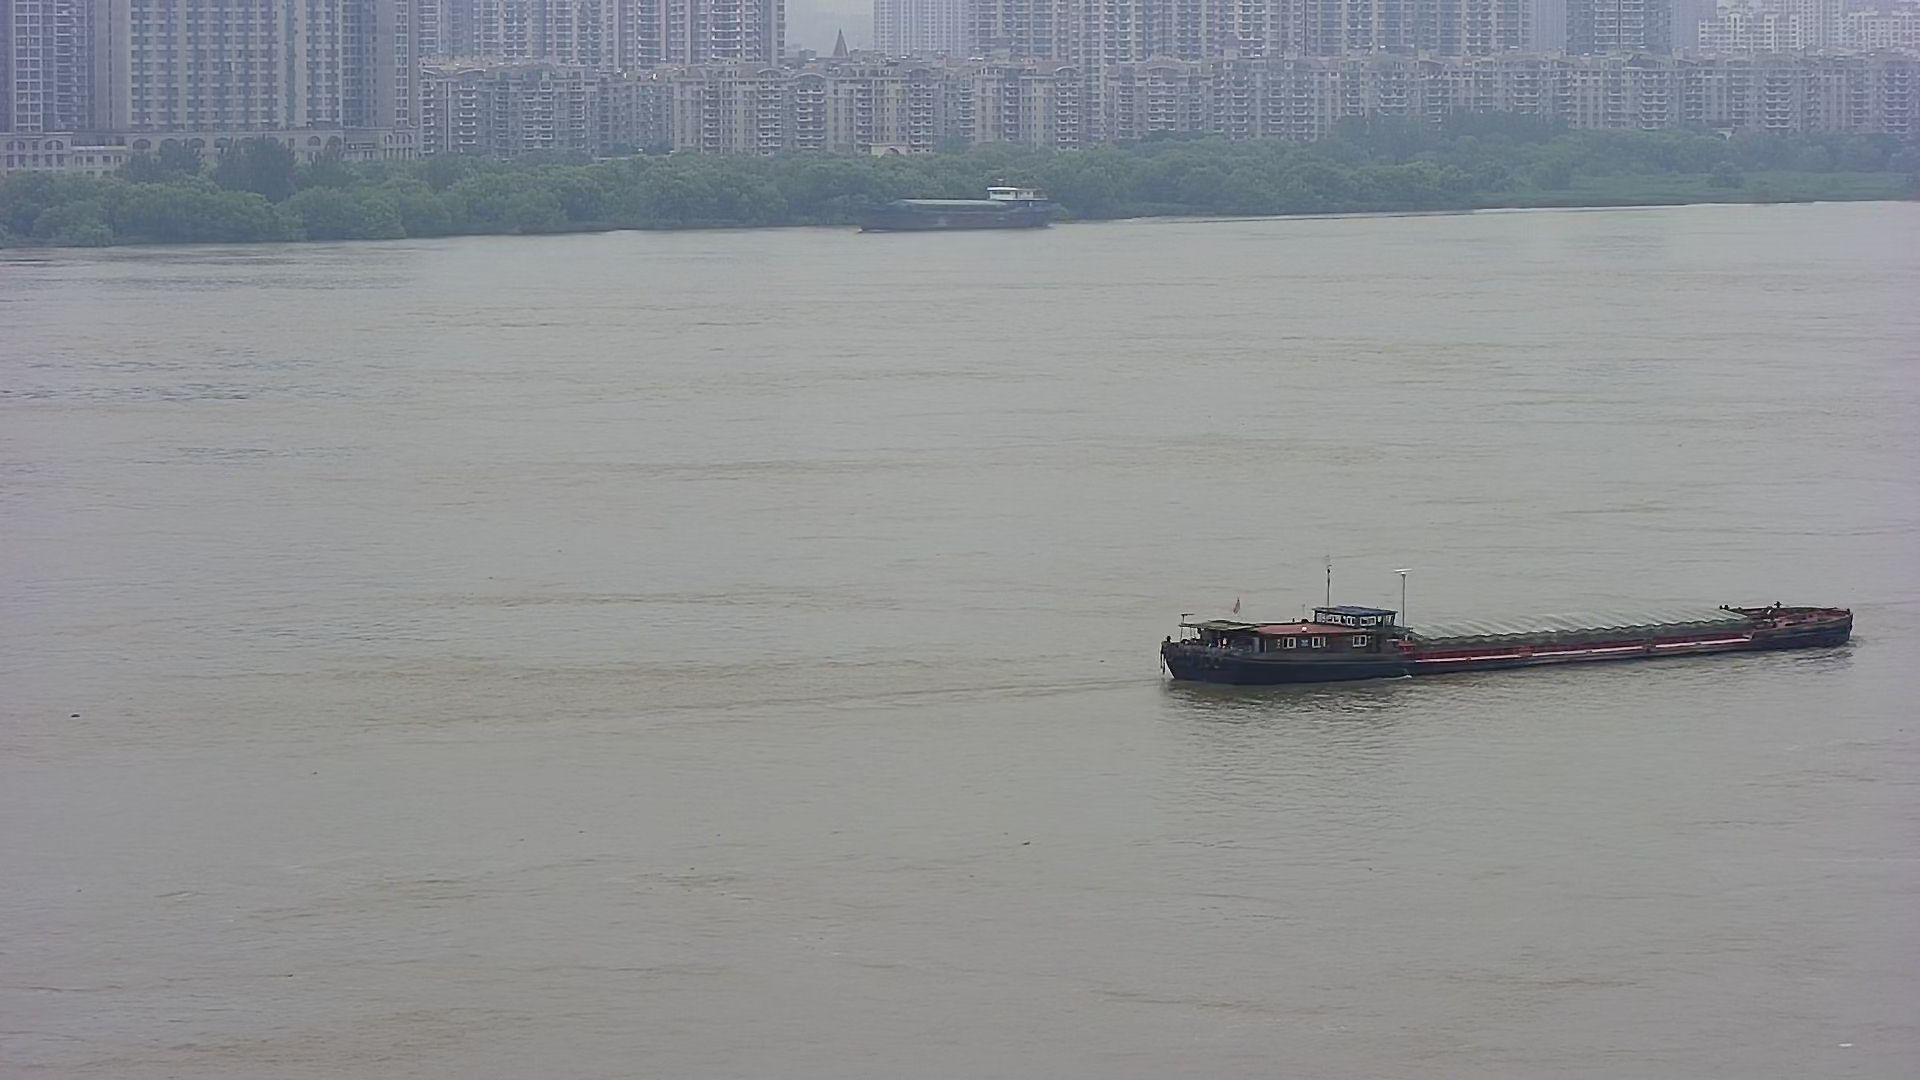ship: (1155, 603, 1887, 684), (844, 166, 1056, 241)
